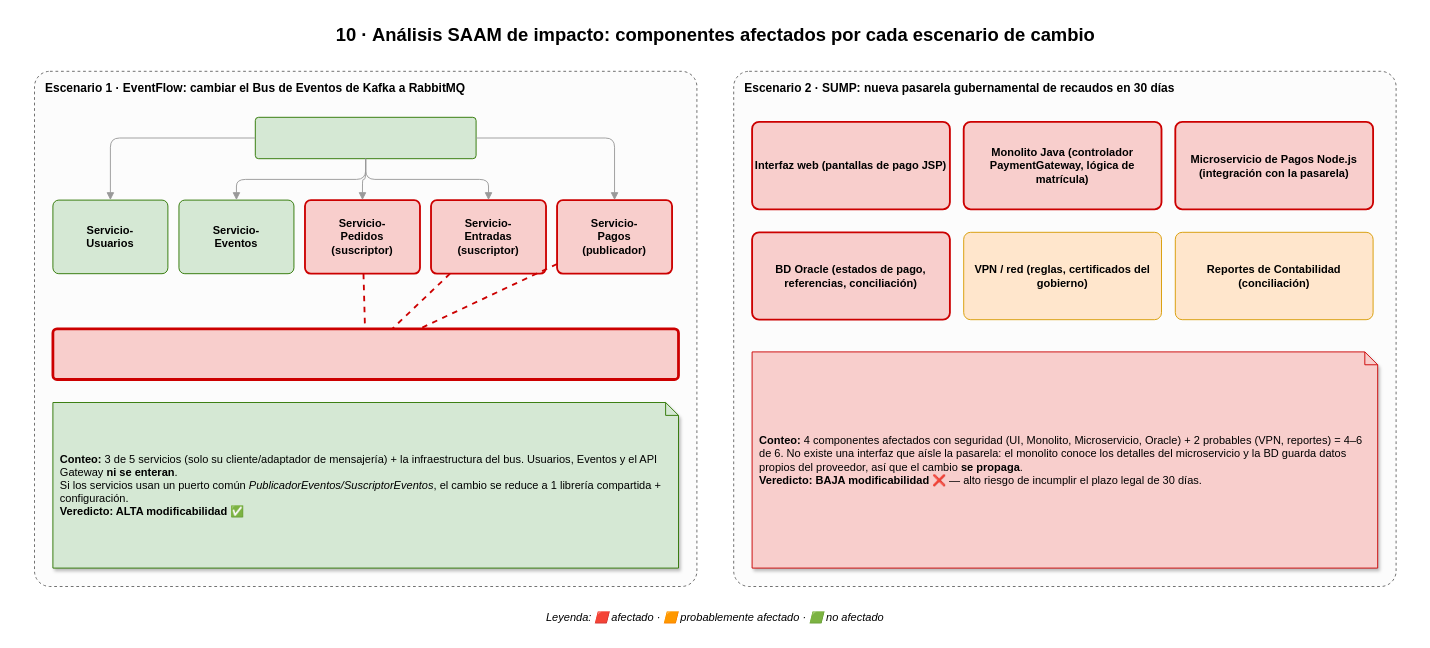
This 1430x648 diagram has some shape labels left out. Each missing label, with the centre of its shape:
"API Gateway" belongs at [365,137].
"Bus de eventos: Kafka → RabbitMQ (se reemplaza)" belongs at [365,353].
